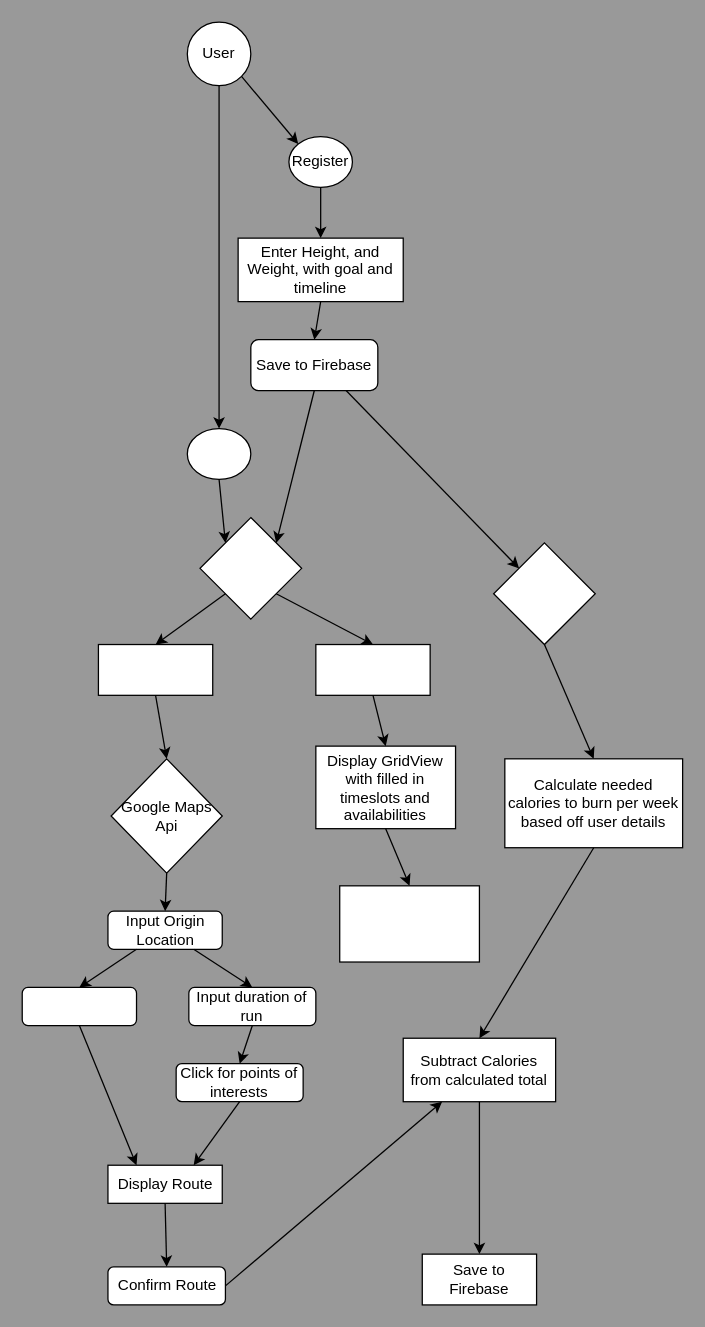
Image size: 705x1327. Some labels were removed from this diagram. Here are the shapes that lost their labels. From the top down, the centre of each, then its label:
(x=218, y=453): Login
(x=250, y=567): HomePage
(x=543, y=593): Fitbit API
(x=155, y=669): Request Running Route
(x=372, y=669): Input week schedule
(x=408, y=923): Recommends timeslot to jog in based on stretch goal
(x=79, y=1006): Input Final Location
